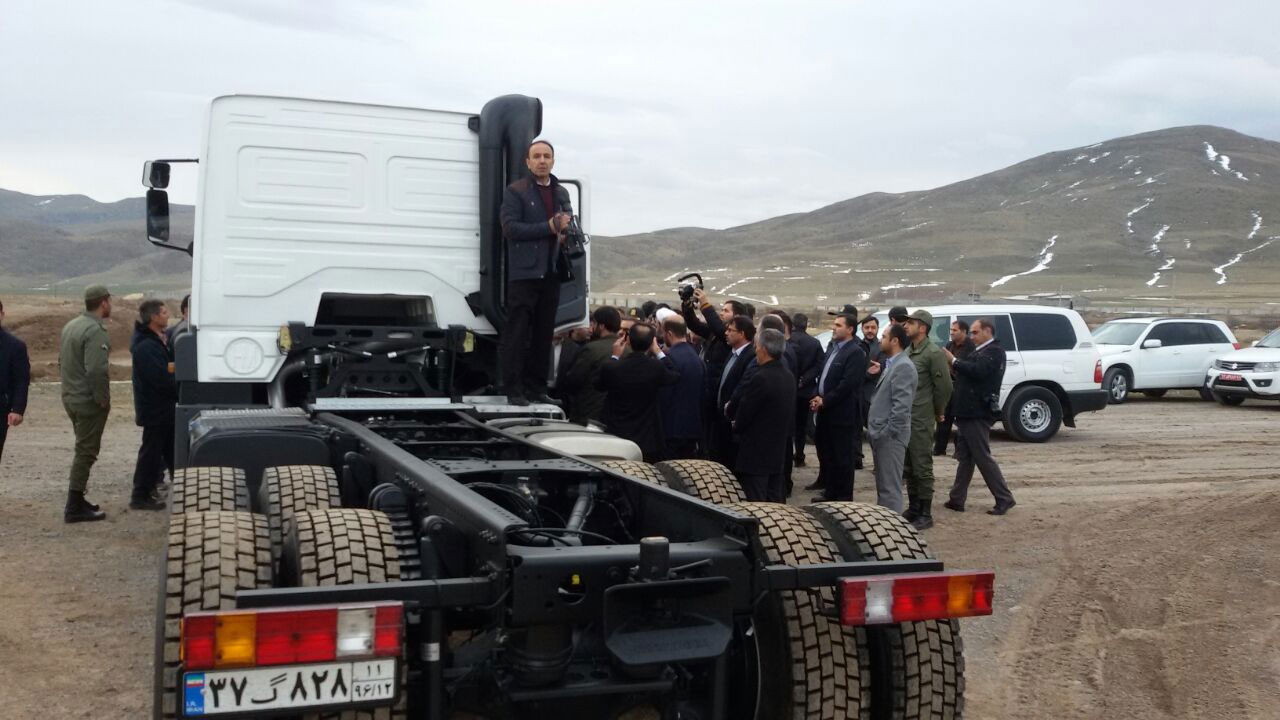car: (179, 659, 394, 720)
